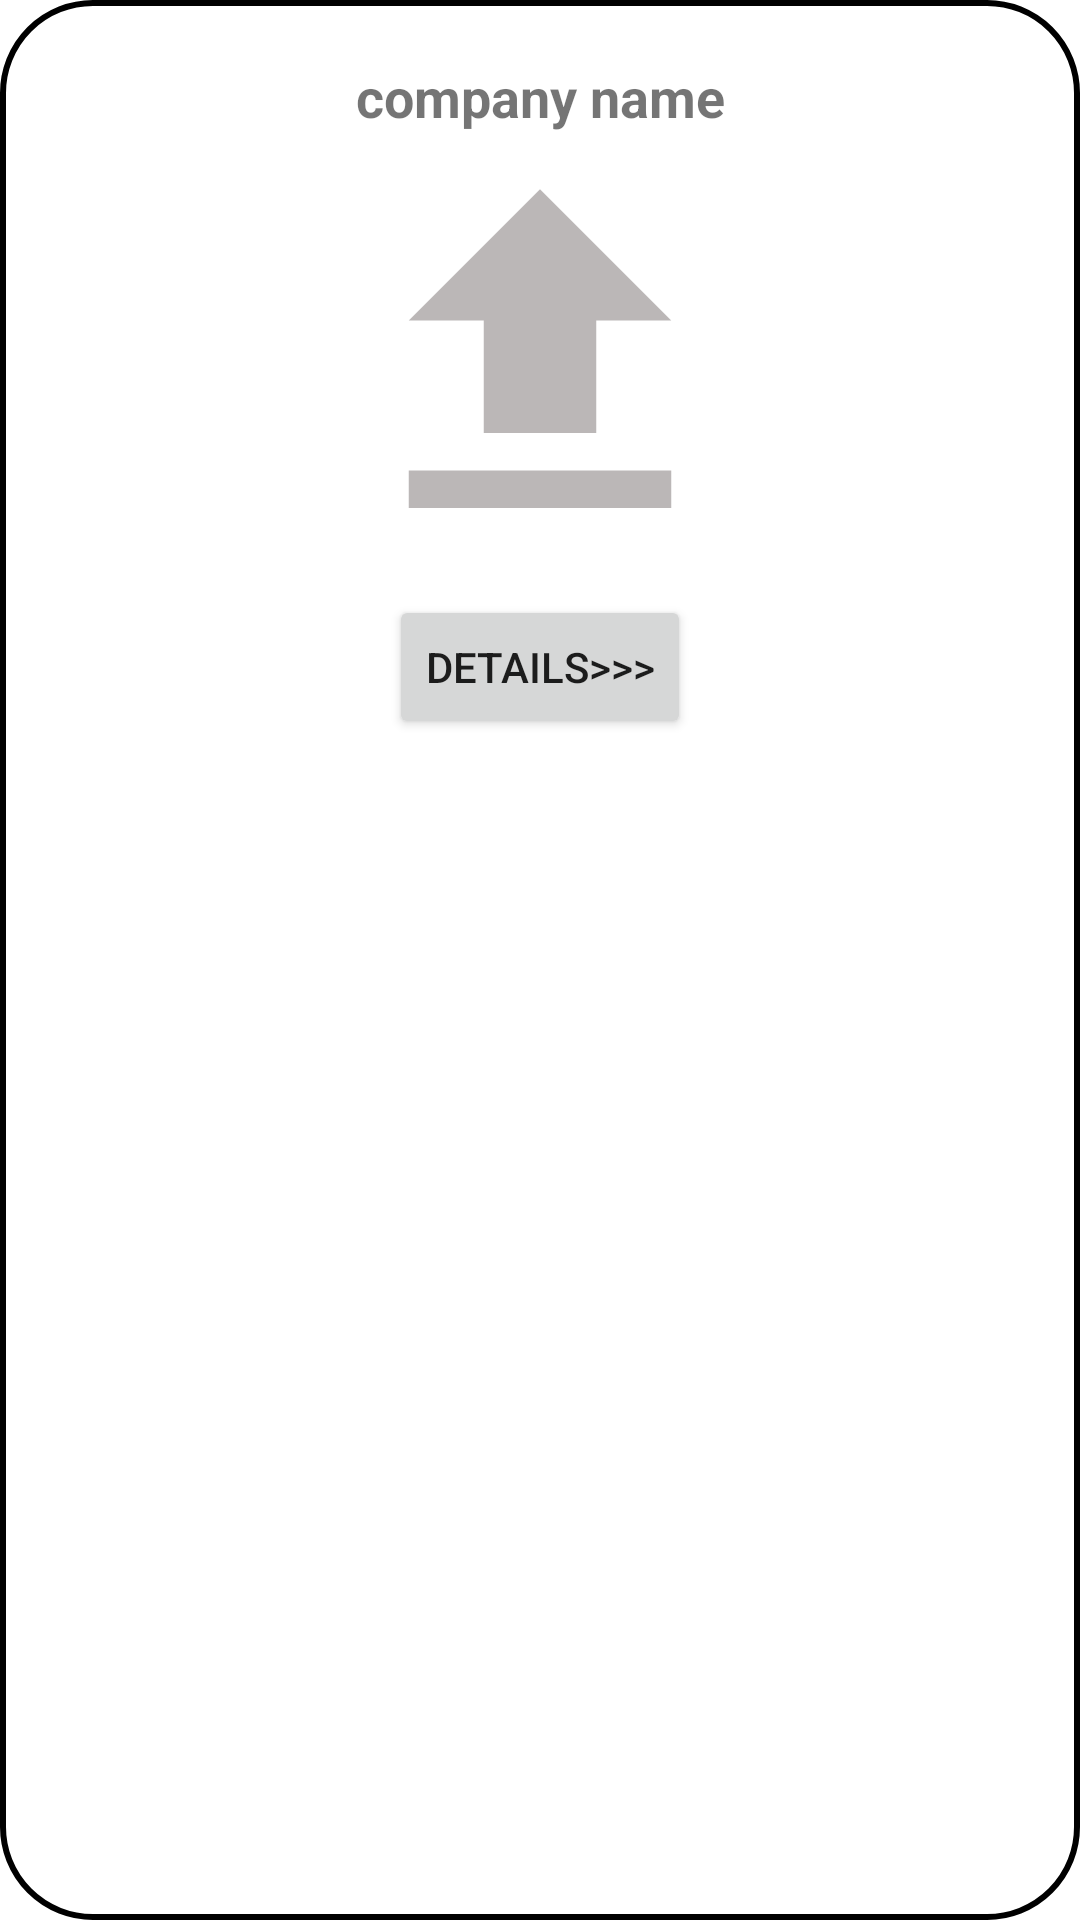

Screen size 1080px×1920px. Icon name, then its center in pixels as (x,y):
upload: (540,349)
